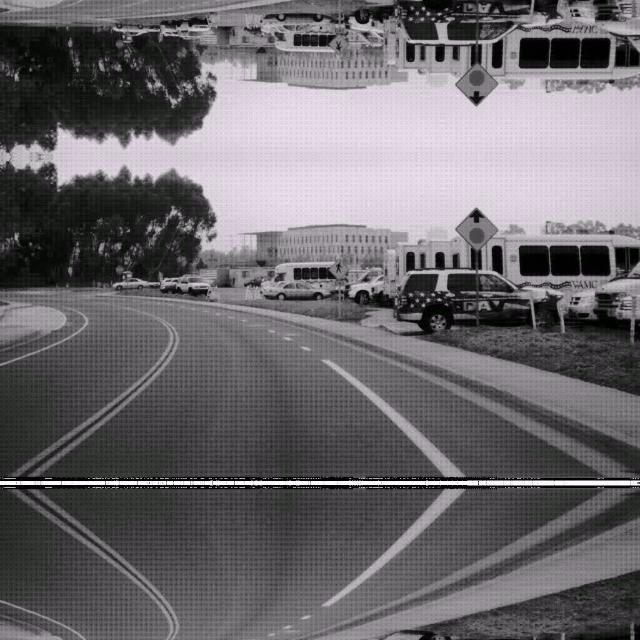pedestrianCrossing: (327, 258, 347, 278), (327, 34, 347, 54)
